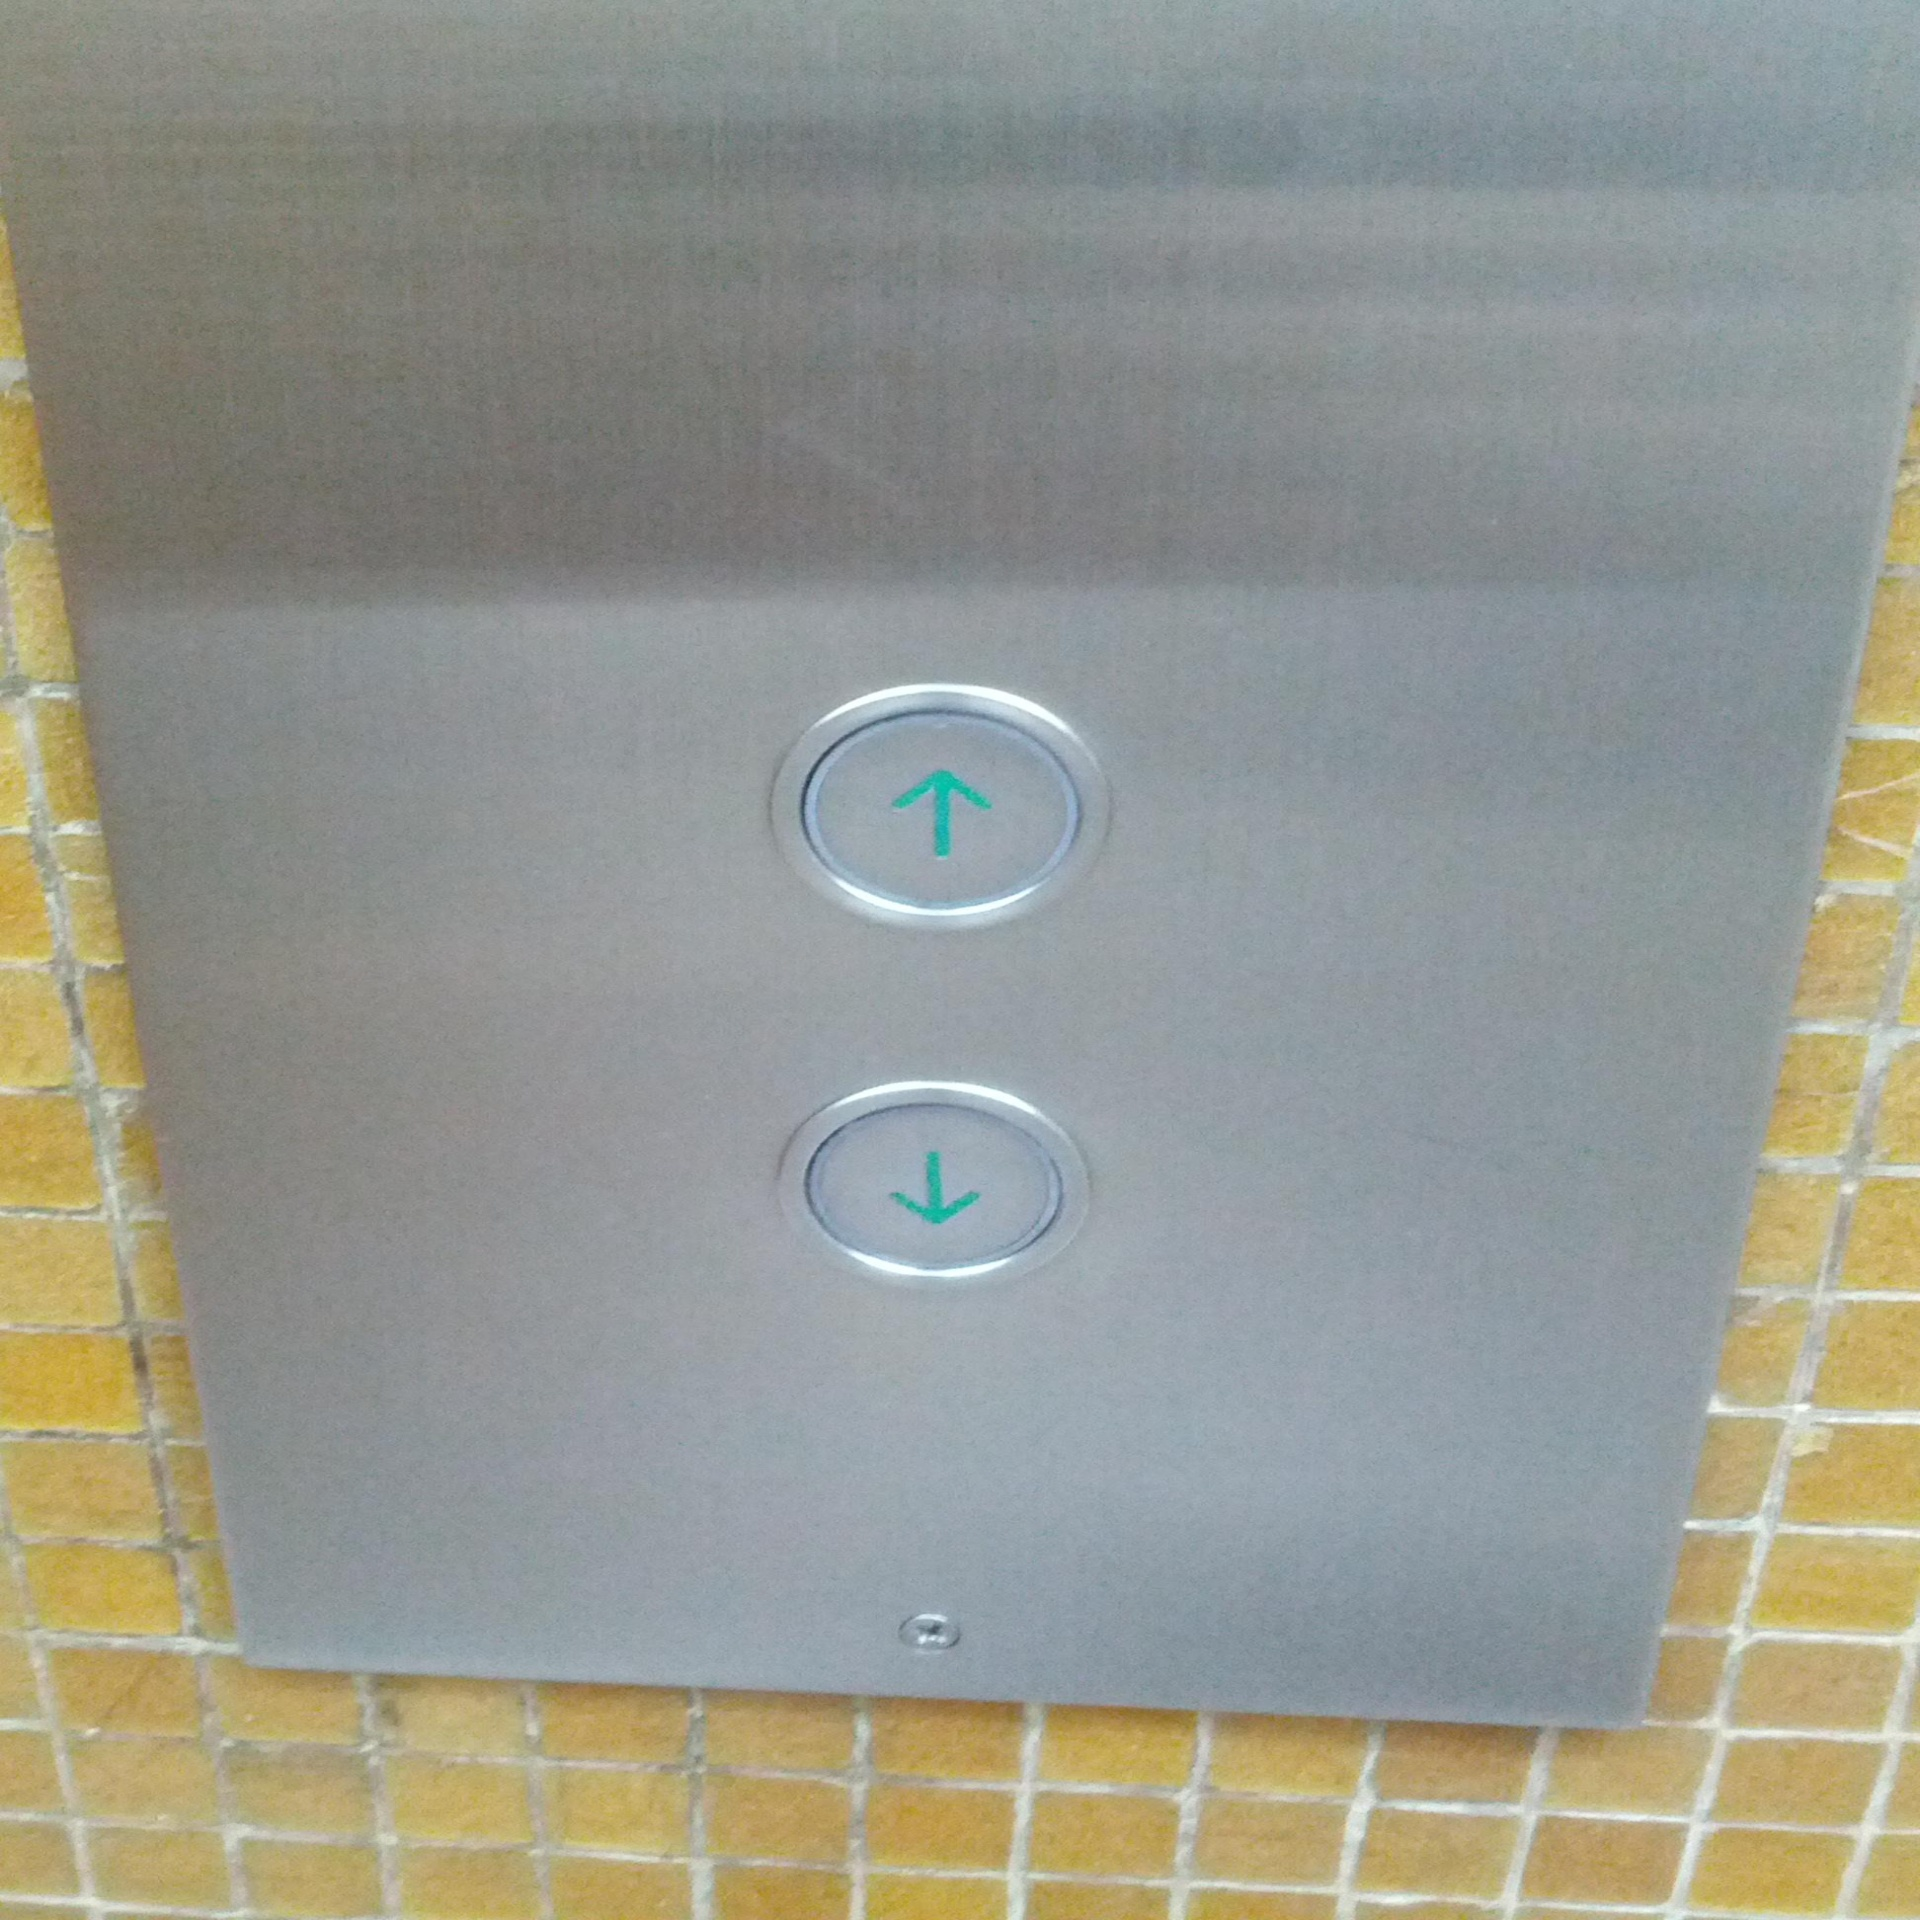down: (763, 1071, 1101, 1299)
up: (758, 670, 1116, 944)
